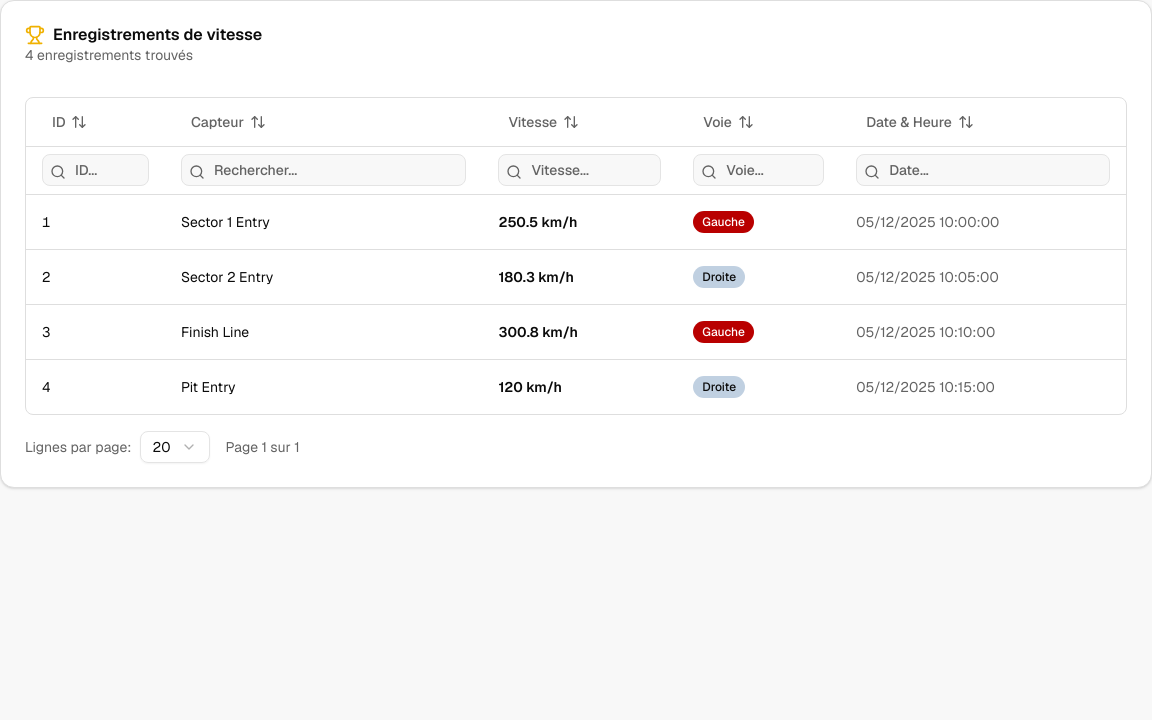
Test: SpeedRecords › Filtering › filters by ID
This screenshot has width=1152, height=720.
Type "1" into the field with placeholder "ID...".
click(95, 170); type("1")  # box 42,154 -> 149,186
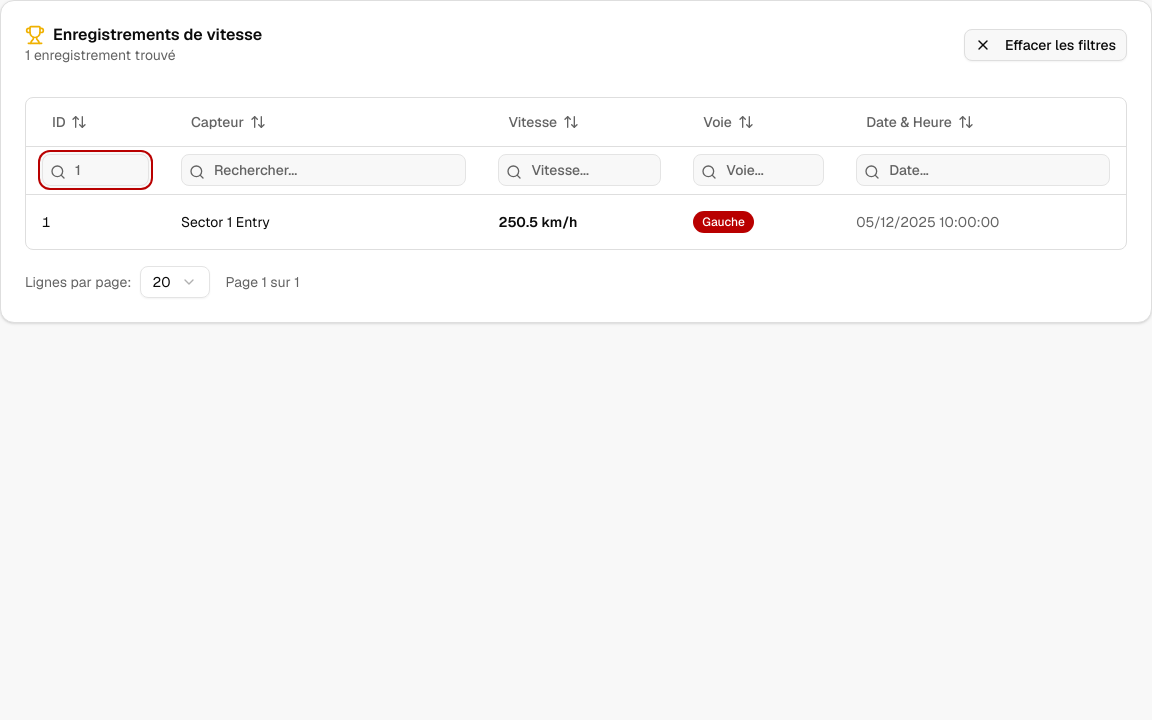
expect the text "1 enregistrement trouvé" is shown: met, box 25,46 -> 176,64
